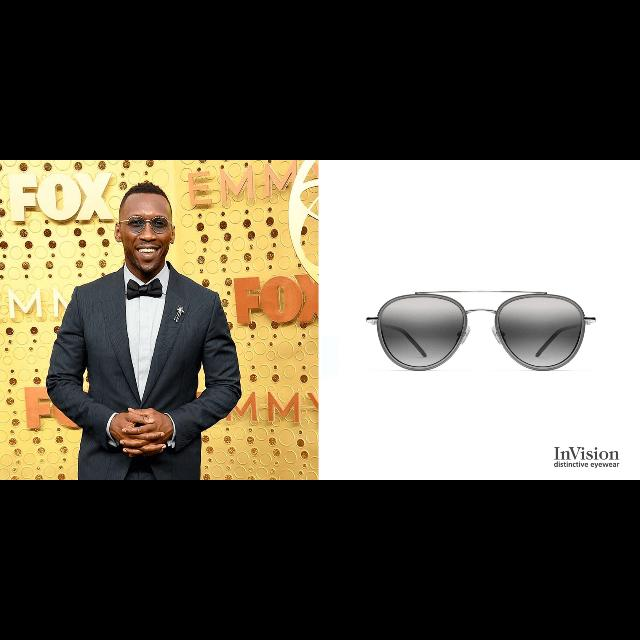Sunglasses: (366, 291, 598, 371), (120, 215, 174, 233)
